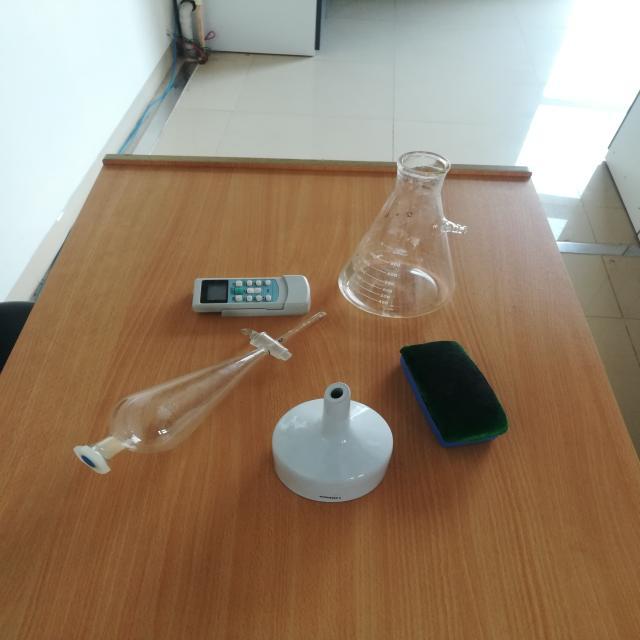Buchner_Funnel: (263, 373, 413, 518)
Conical_Flask: (321, 129, 512, 332)
Separating_Funnel: (55, 295, 353, 492)
